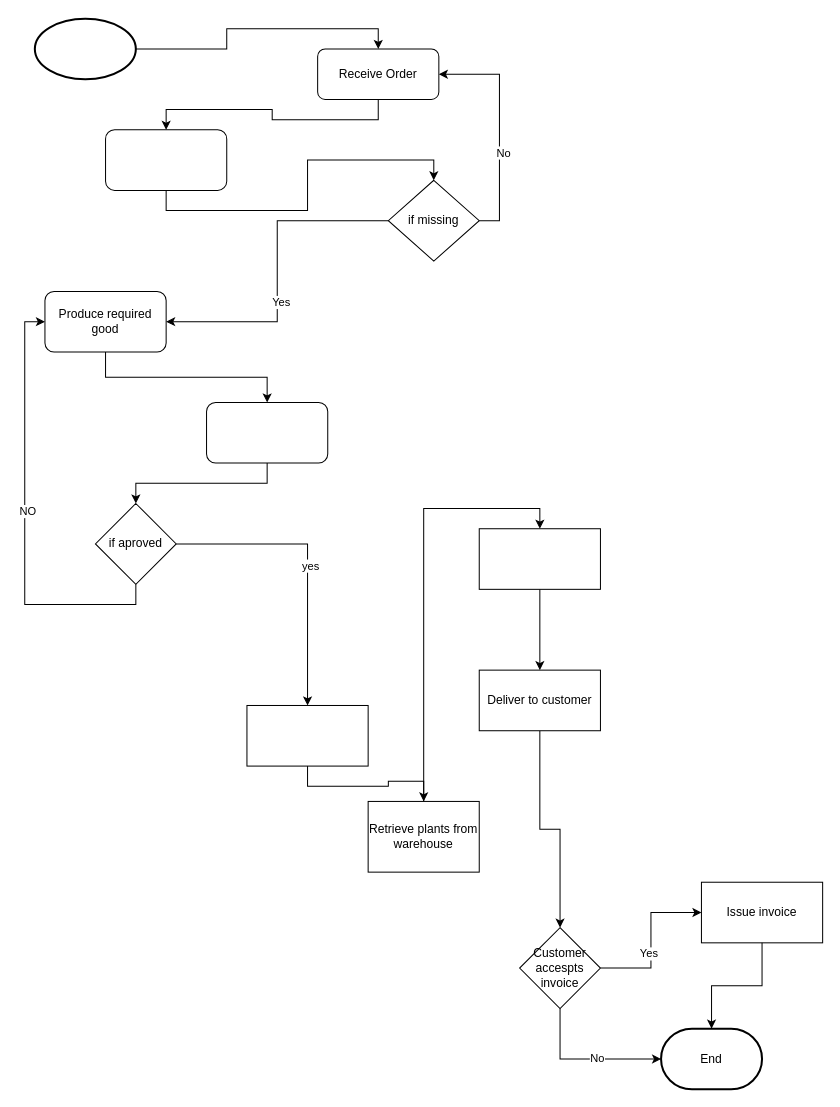
The diagram is 840 pixels wide and 1107 high, and some of its shapes have lost their labels. Here are the shapes that lost their labels. From the top down, the centre of each, then its label:
[84,48]: Start
[166,159]: Check for missing info
[267,432]: Quality Control the goods
[539,558]: Pack the order
[307,735]: Transport to teh dired palnt parts warehouse
